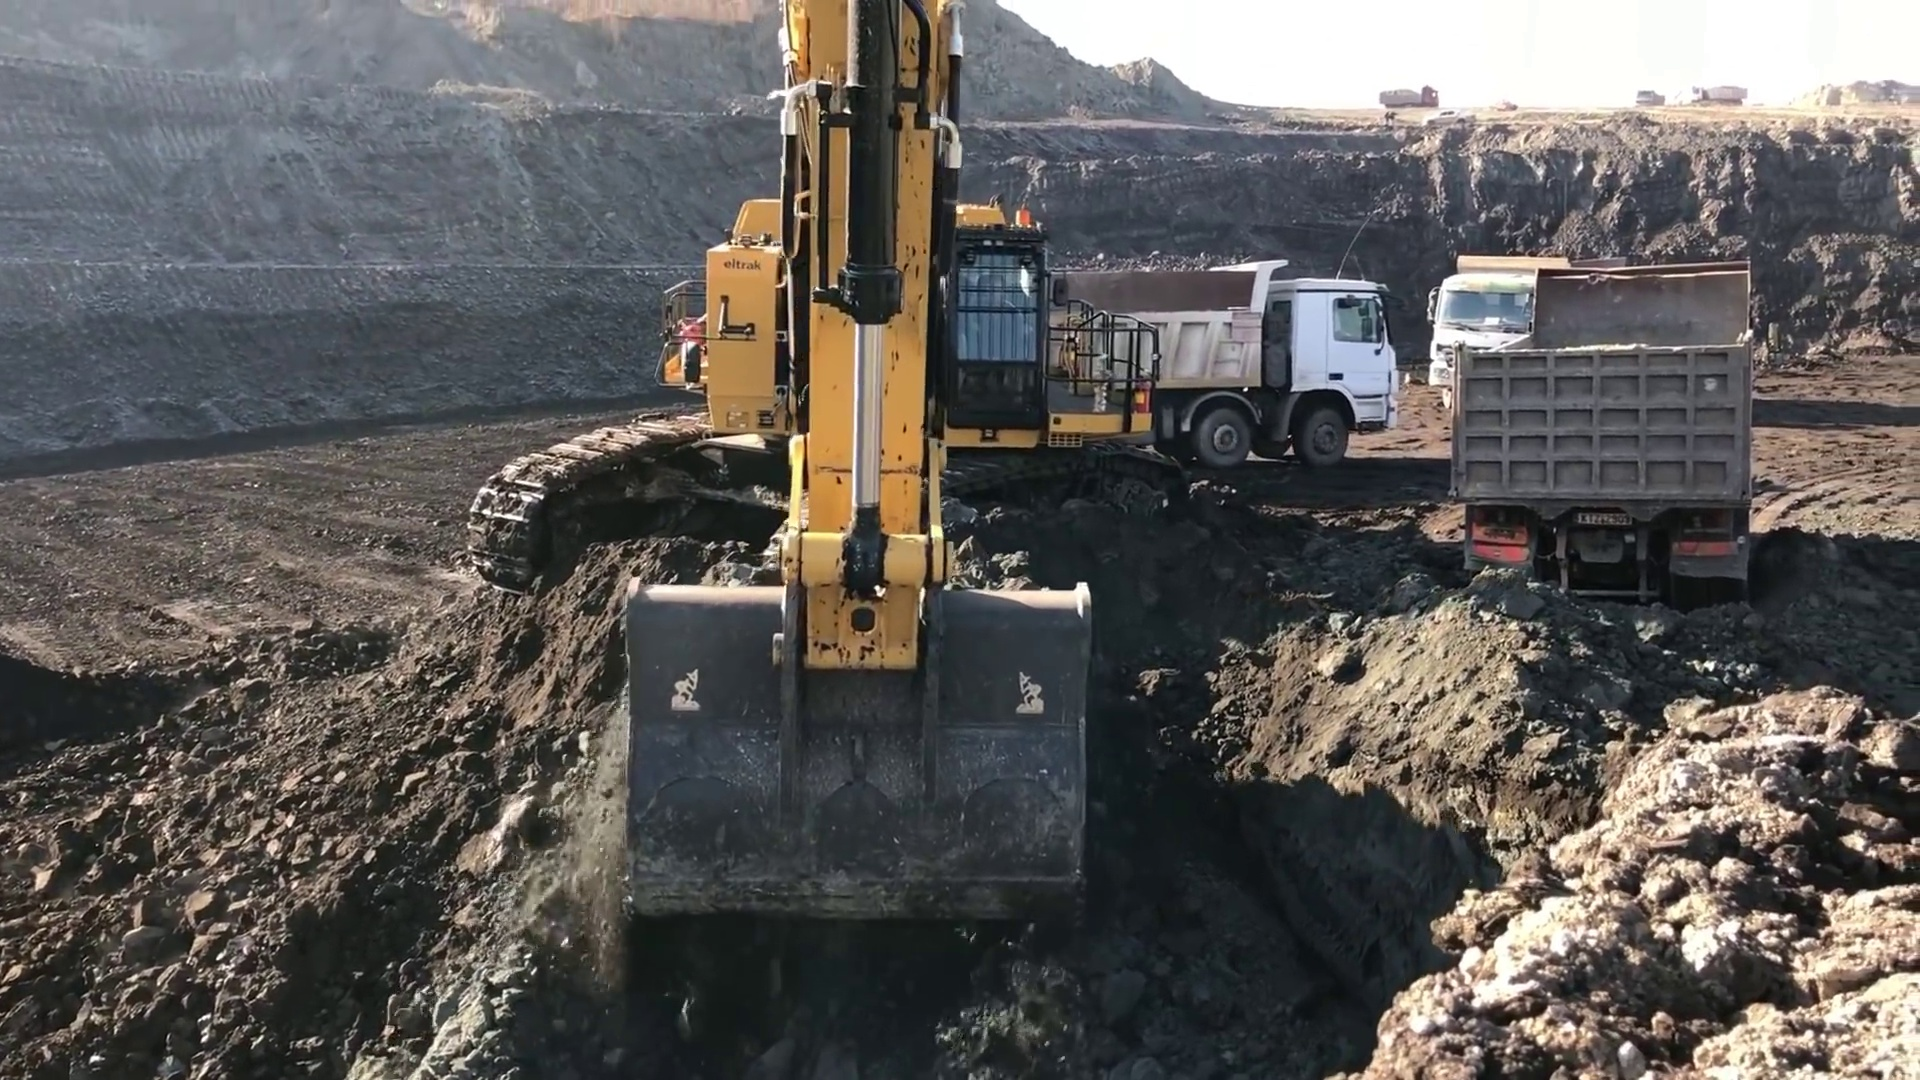excavator: (468, 1, 1160, 952)
truck: (1453, 261, 1756, 618), (1001, 252, 1396, 469), (1423, 248, 1650, 411), (1377, 83, 1441, 113), (1689, 84, 1743, 107)
